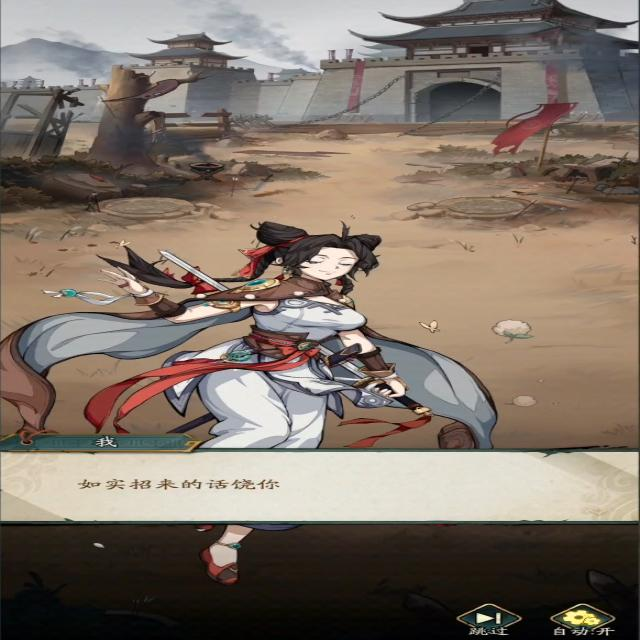system-auto: (546, 602, 626, 638)
system-skip: (457, 602, 527, 638)
